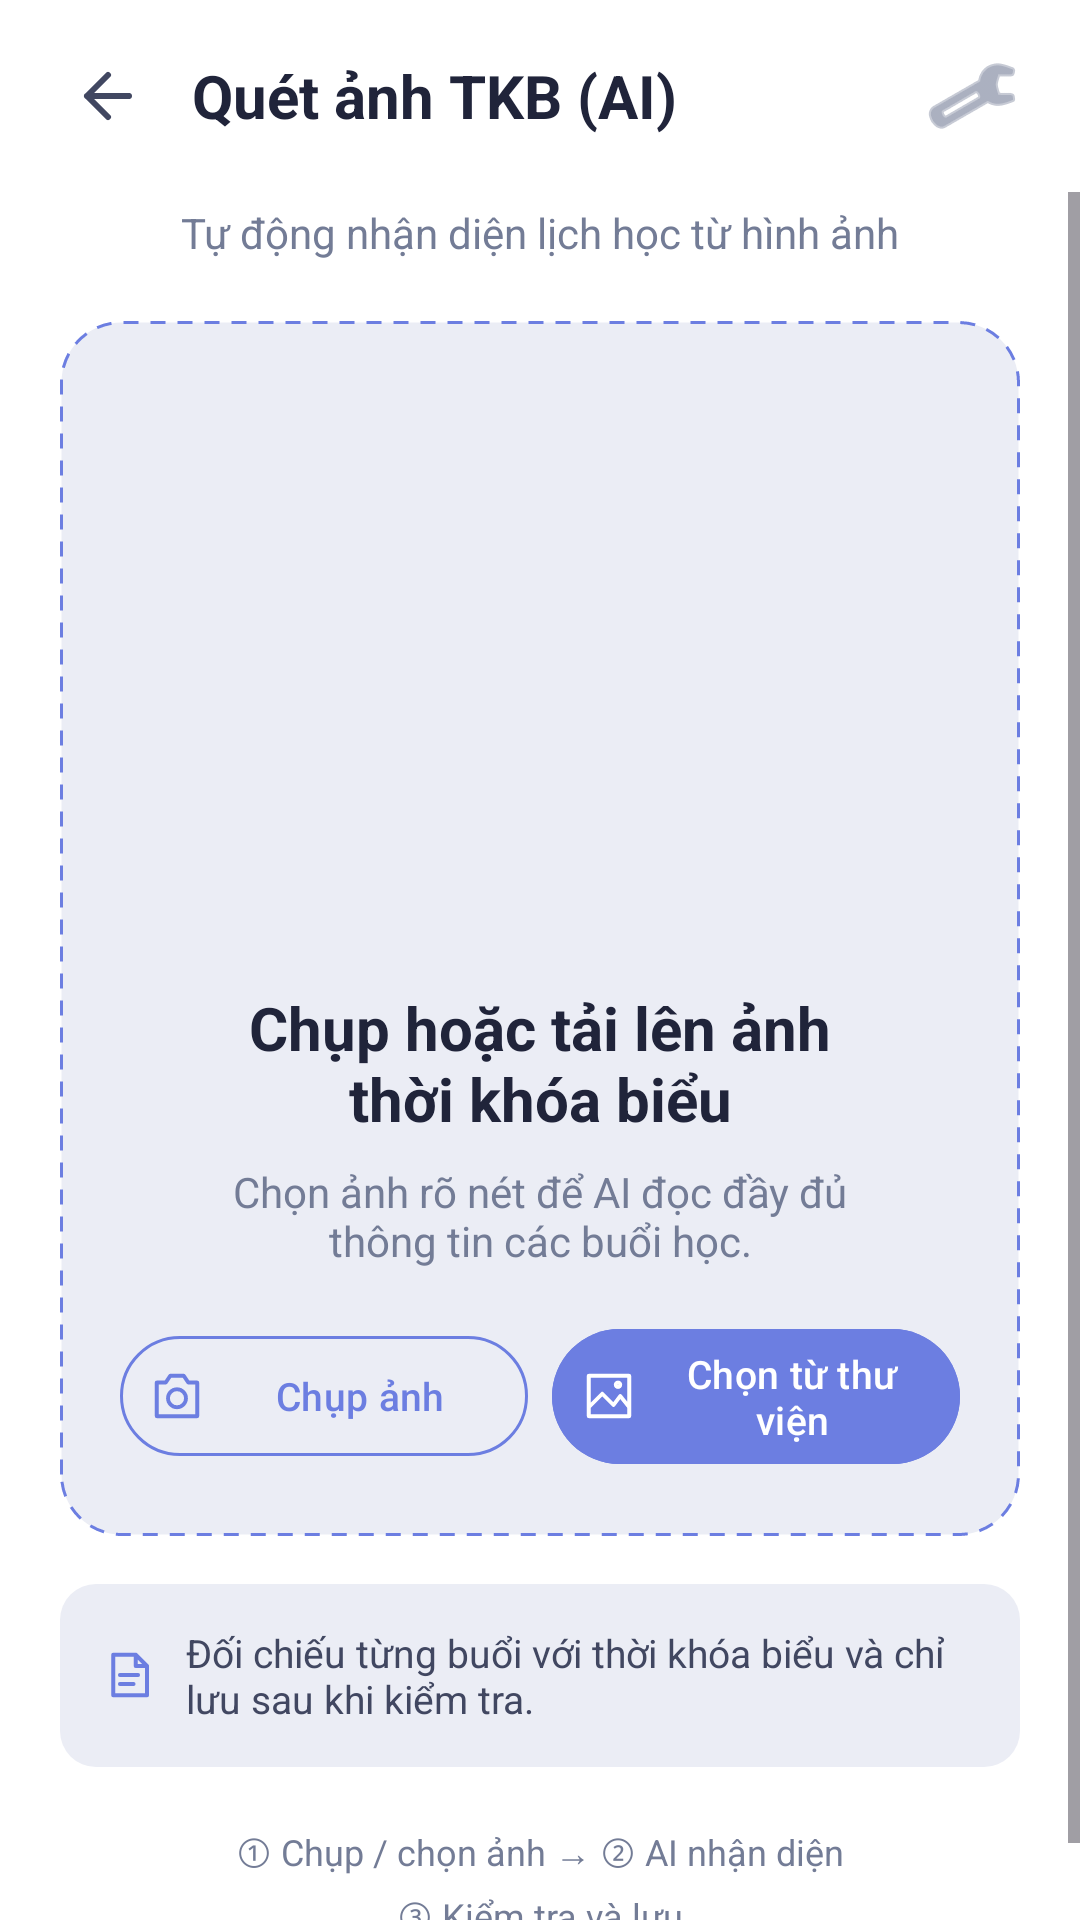

Point at icon controls on the screen. Image size 1080 x 1920, points as (x=x, y=y).
Quay lại: (x=108, y=96)
